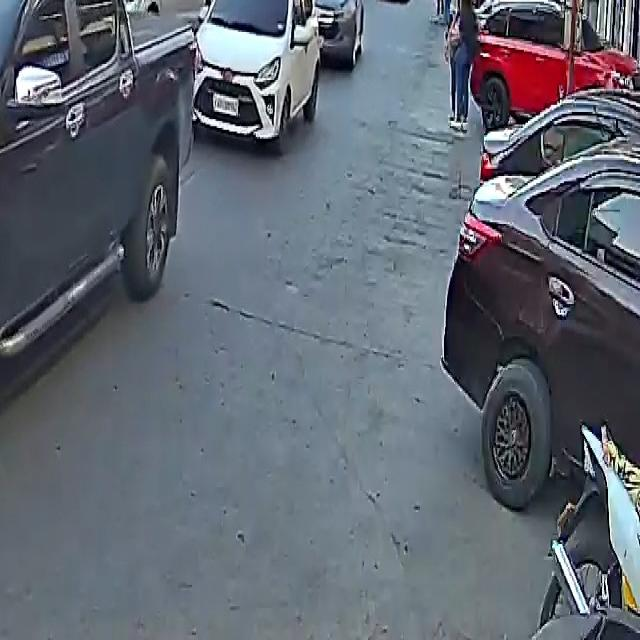car: (0, 0, 215, 503), (444, 74, 640, 532), (469, 0, 638, 130), (185, 0, 330, 146), (292, 0, 366, 66), (94, 0, 211, 18), (375, 0, 411, 2)
